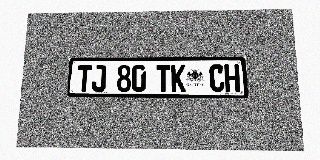0: (131, 65, 146, 92)
8: (117, 65, 131, 92)
C: (209, 64, 225, 92)
H: (224, 64, 240, 92)
J: (91, 65, 106, 92)
K: (171, 64, 186, 92)
T: (77, 65, 92, 92), (156, 65, 171, 92)
